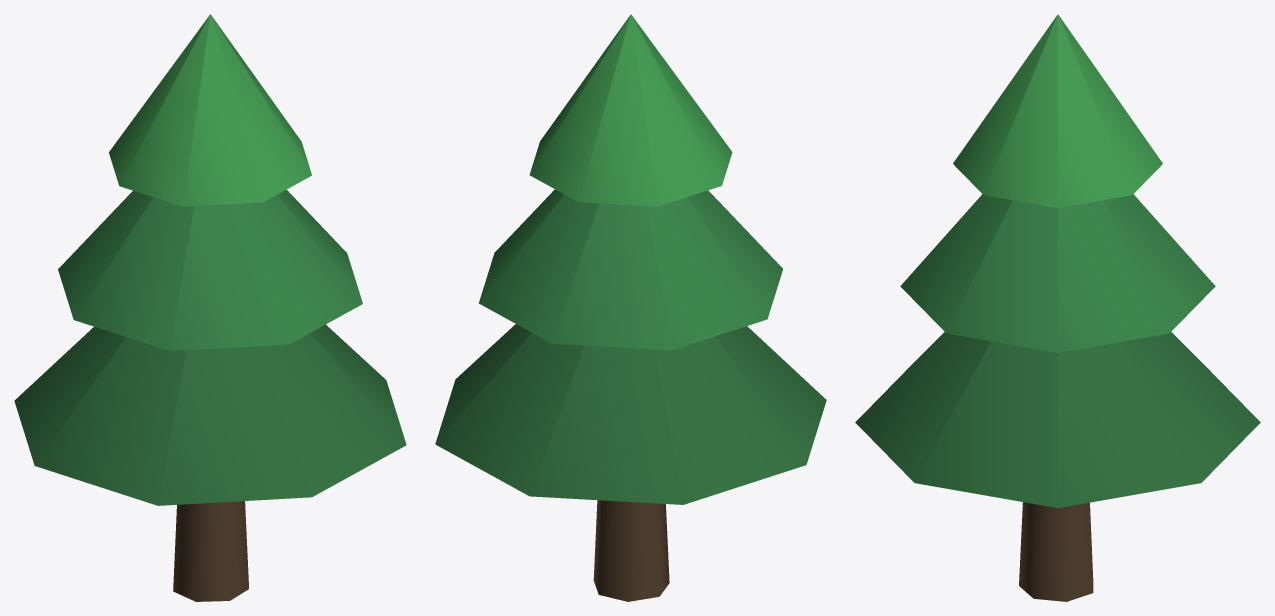
Rendered from tree_pine.glb.
3 views of the same model, side by side, from view 1: azimuth 30°, elevation 25°; view 2: azimuth 150°, elevation 25°; view 3: azimuth 270°, elevation 25° (orthographic).
Visible parts, largest first — view 1: tree_pine; view 2: tree_pine; view 3: tree_pine.
Part boxes in pixels (bbox=[...]): tree_pine: bbox=[14, 14, 406, 601]; tree_pine: bbox=[435, 14, 826, 601]; tree_pine: bbox=[855, 14, 1260, 601].
Size of the model in its own units: 2.7 by 4.2 by 2.7.
